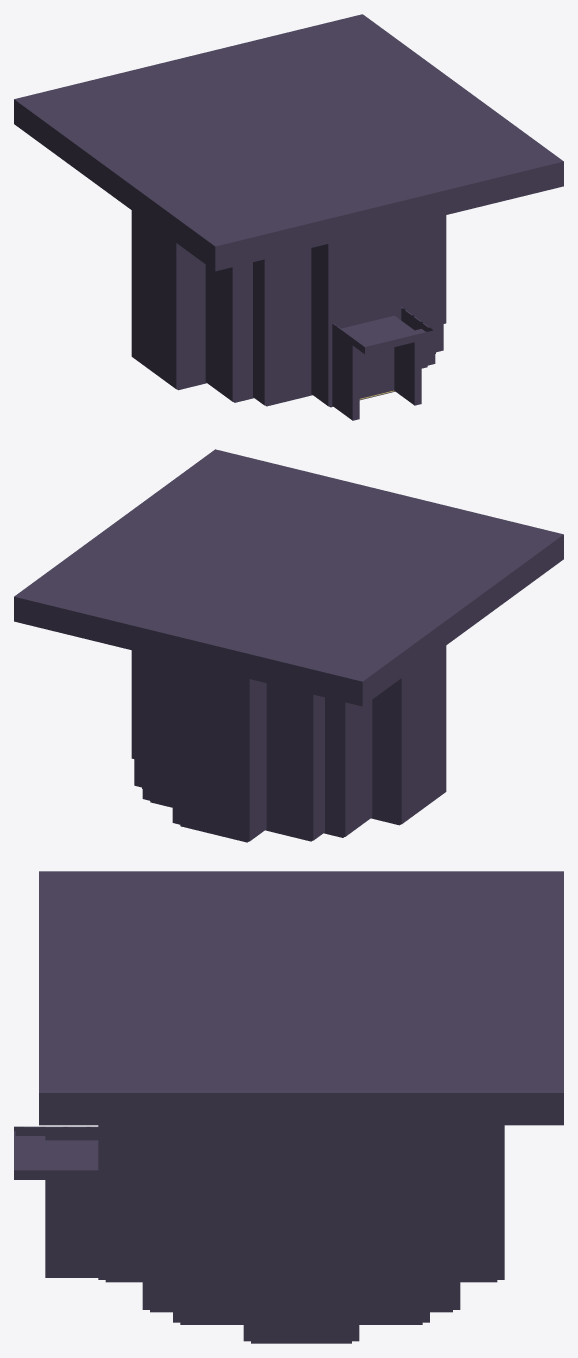
The model's file is reception fbx.fbx.
3 renders of one model, top to bottom at view 1: azimuth 30°, elevation 25°; view 2: azimuth 150°, elevation 25°; view 3: azimuth 270°, elevation 25°, orthographic. The views are drawn at different scales.
Parts seen in each view (by area): view 1: pCube55, reception:pCube1, evil_skyscraper__2_:pCube9; view 2: pCube55, reception:pCube1; view 3: pCube55, reception:pCube1, evil_skyscraper__2_:pCube9.
Part boxes in pixels (x1,y1,x2,y2): pCube55: (14,14,563,271); reception:pCube1: (131,210,446,407); evil_skyscraper__2_:pCube9: (332,306,433,420); pCube55: (14,449,563,706); reception:pCube1: (131,646,446,842); pCube55: (39,871,563,1125); reception:pCube1: (98,1125,504,1343); evil_skyscraper__2_:pCube9: (14,1126,98,1277).
Bounding box in the file's own units: 148 × 86.74 × 155.
